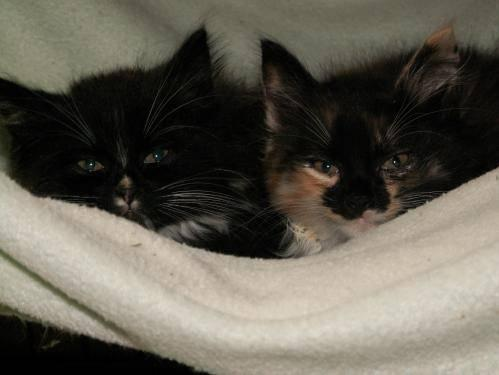cat: (0, 27, 498, 257)
